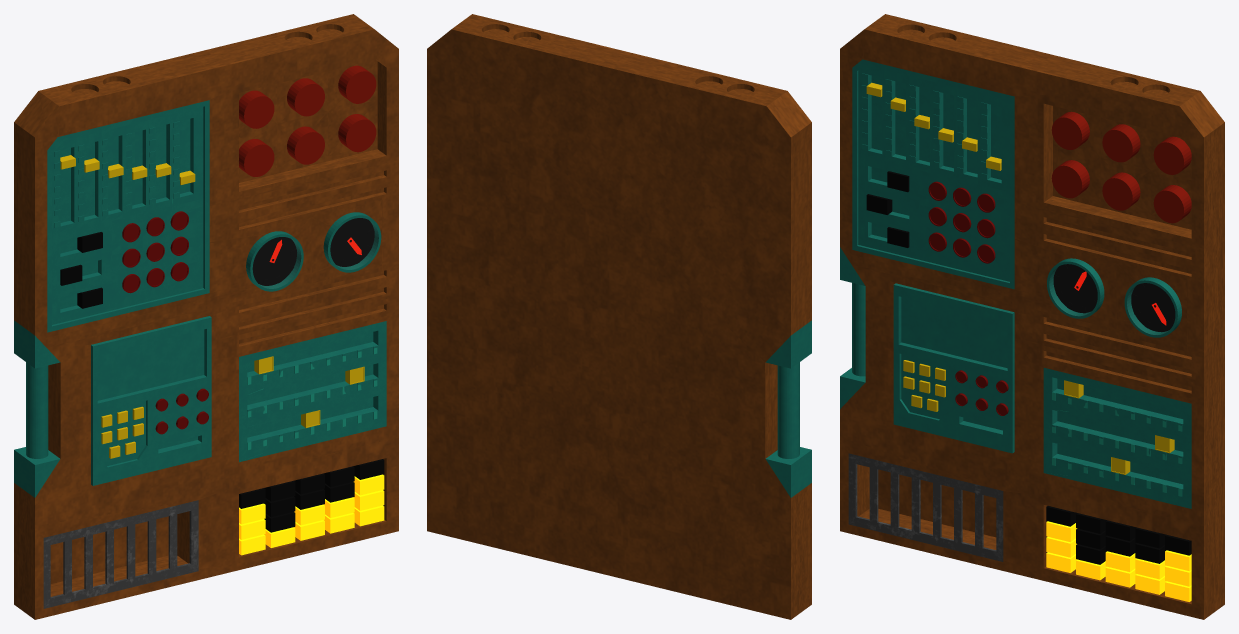
File: Button panel textured.glb
The picture shows the model from 3 angles, left to right: view 1: azimuth 30°, elevation 25°; view 2: azimuth 150°, elevation 25°; view 3: azimuth 330°, elevation 25°; orthographic projection.
Visible parts, largest first — view 1: Button panel - Outside-1, Button panel - Left above - Outside-1, Button panel - Code formc-1, Button panel - Right under in the middel Outside-1, Button panel - Vent-1, Button panel - Outside Extra part 2-1, Button panel - Pressure gauge - Underside-1, Button panel - Pressure gauge - Underside-1.001, Button panel - Outside Extra part-2, Button panel - Outside Extra part-1, Cylinder.002, Cylinder.004 (+6 smaller); view 2: Button panel - Outside-1, Button panel - Outside Extra part 2-1, Button panel - Outside Extra part-2, Button panel - Outside Extra part-1; view 3: Button panel - Outside-1, Button panel - Left above - Outside-1, Button panel - Code formc-1, Button panel - Right under in the middel Outside-1, Button panel - Vent-1, Button panel - Pressure gauge - Underside-1.001, Button panel - Pressure gauge - Underside-1, Button panel - Outside Extra part 2-1, Cylinder.001, Cylinder.004, Cylinder.003, Cylinder.005 (+5 smaller).
Part boxes in pixels (bbox=[...]): Button panel - Outside-1: bbox=[14, 14, 398, 619]; Button panel - Left above - Outside-1: bbox=[47, 100, 209, 332]; Button panel - Code formc-1: bbox=[91, 316, 211, 485]; Button panel - Right under in the middel Outside-1: bbox=[239, 321, 386, 462]; Button panel - Vent-1: bbox=[43, 500, 198, 608]; Button panel - Outside Extra part 2-1: bbox=[26, 362, 48, 458]; Button panel - Pressure gauge - Underside-1: bbox=[330, 218, 374, 266]; Button panel - Pressure gauge - Underside-1.001: bbox=[252, 237, 297, 285]; Button panel - Outside Extra part-2: bbox=[14, 447, 59, 497]; Button panel - Outside Extra part-1: bbox=[14, 320, 60, 368]; Cylinder.002: bbox=[338, 65, 376, 103]; Cylinder.004: bbox=[287, 126, 324, 164]; Button panel - Outside-1: bbox=[427, 14, 811, 619]; Button panel - Outside Extra part 2-1: bbox=[777, 362, 799, 458]; Button panel - Outside Extra part-2: bbox=[766, 447, 811, 497]; Button panel - Outside Extra part-1: bbox=[765, 320, 811, 368]; Button panel - Outside-1: bbox=[840, 14, 1224, 619]; Button panel - Left above - Outside-1: bbox=[852, 59, 1014, 289]; Button panel - Code formc-1: bbox=[893, 283, 1014, 453]; Button panel - Right under in the middel Outside-1: bbox=[1043, 368, 1191, 508]; Button panel - Vent-1: bbox=[848, 453, 1003, 561]; Button panel - Pressure gauge - Underside-1.001: bbox=[1053, 264, 1097, 313]; Button panel - Pressure gauge - Underside-1: bbox=[1131, 283, 1175, 332]; Button panel - Outside Extra part 2-1: bbox=[852, 283, 865, 376]; Cylinder.001: bbox=[1102, 124, 1140, 162]; Cylinder.004: bbox=[1102, 172, 1140, 210]; Cylinder.003: bbox=[1051, 160, 1089, 198]; Cylinder.005: bbox=[1153, 185, 1191, 223].
Bounding box in the file's own units: 7.82 × 10.43 × 0.9384.
Materials: 22 (22 with a texture image).
